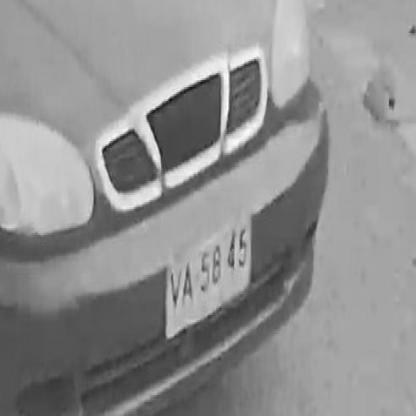Patente: (165, 211, 253, 341)
